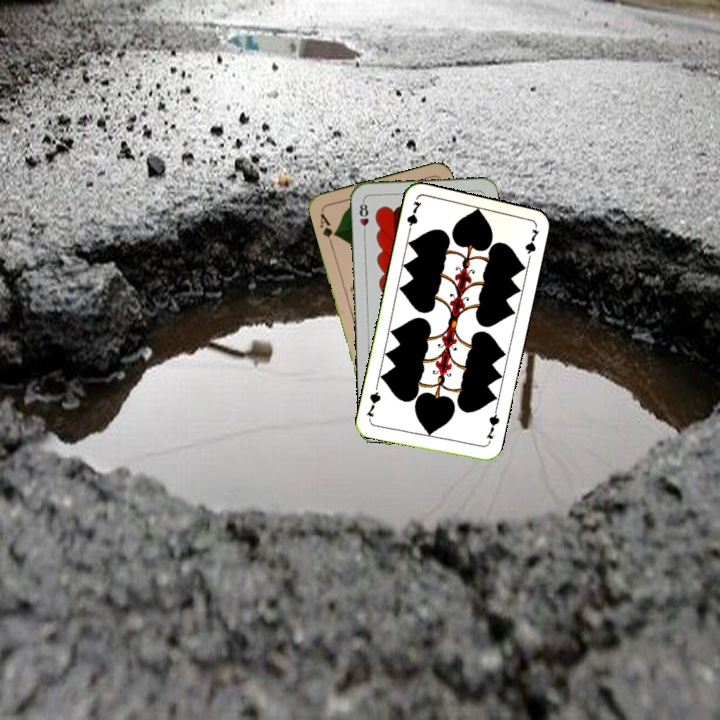G7: (403, 197, 424, 237), (482, 407, 502, 441)
GA: (316, 209, 339, 248)
H8: (355, 197, 371, 237)
